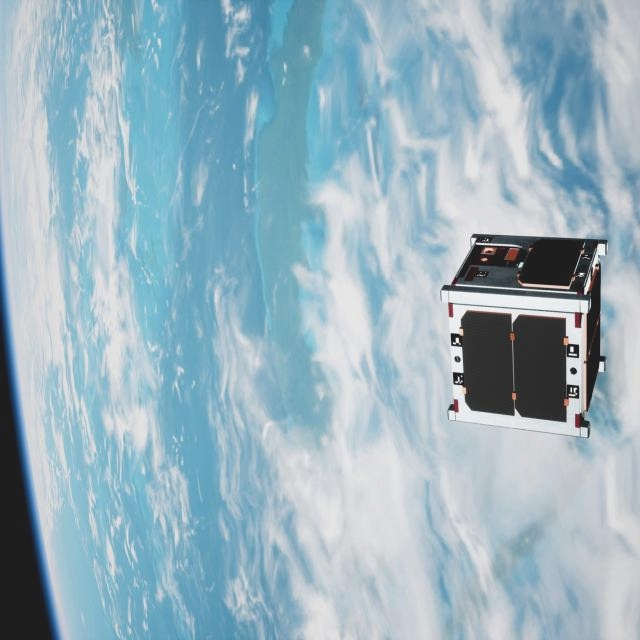satellite: (432, 238, 617, 442)
